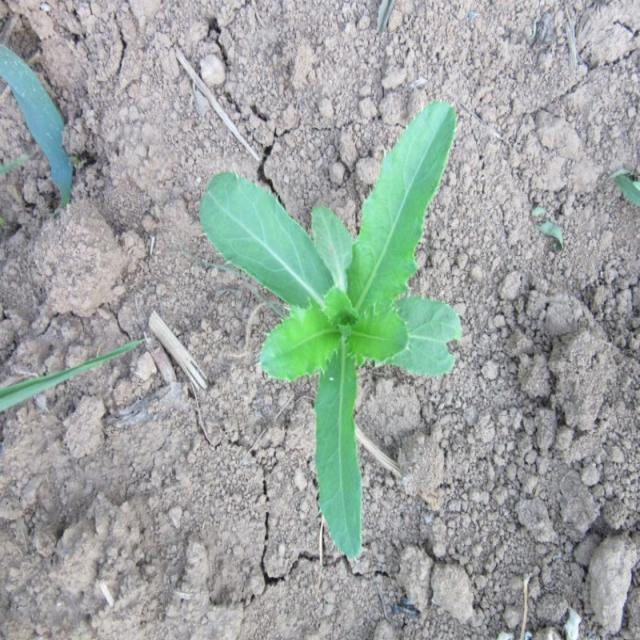cs: (197, 96, 463, 559)
